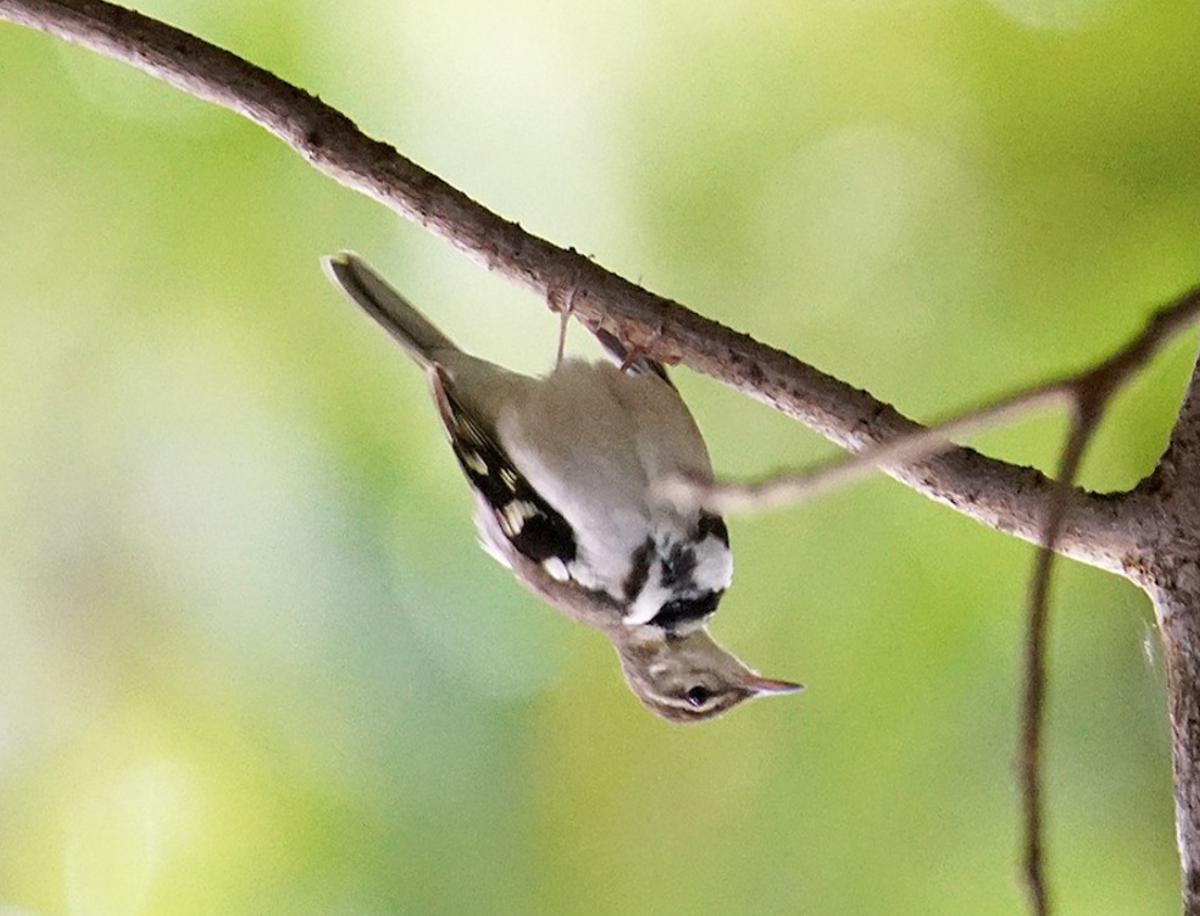wagtail: (393, 266, 835, 720)
